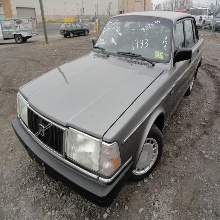no damage: (11, 11, 204, 205), (59, 20, 89, 38)
